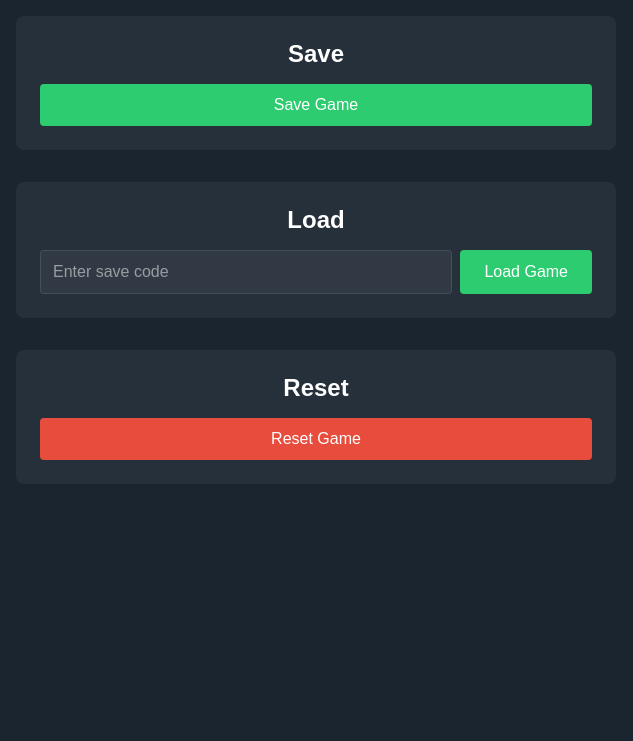
Test: SaveLoadView › Copy Code › should copy save code to clipboard
Note: Generate a save code
Click the button with class "save-button".
click(316, 105)  # box top-left (40, 84), bottom-right (592, 126)
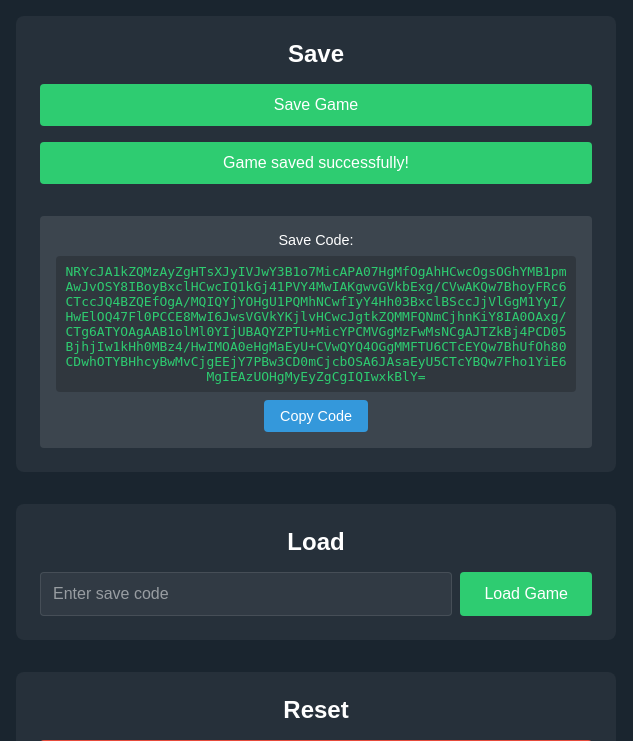
Note: Click copy button
Click the button with class "copy-button".
click(316, 416)  # box top-left (264, 400), bottom-right (368, 432)
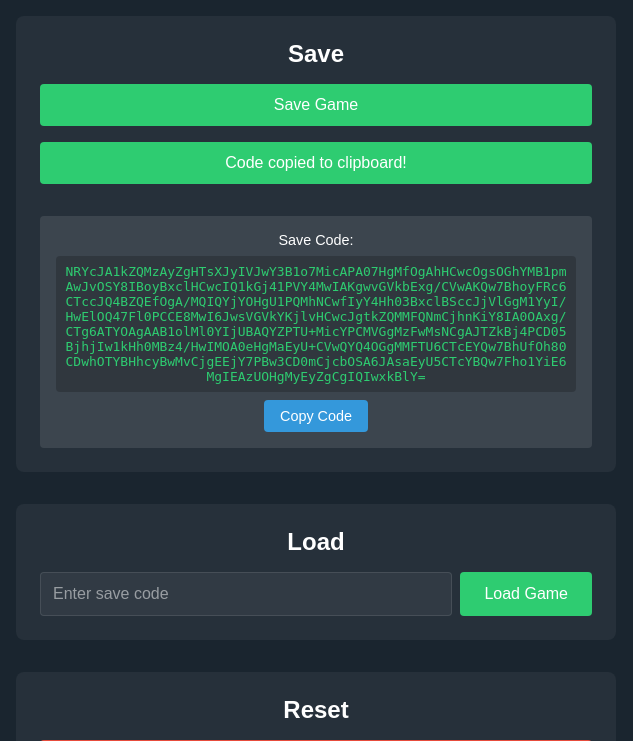
Result: the text with class "message" reads "Code copied to clipboard!" at top-left (225, 154), bottom-right (407, 171)
